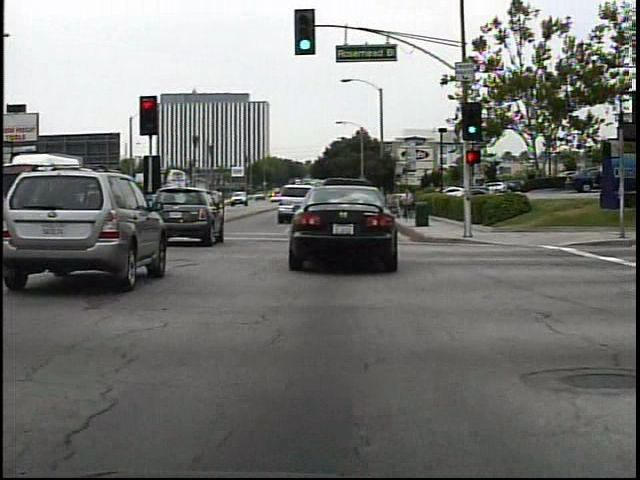person: (399, 187, 418, 223)
